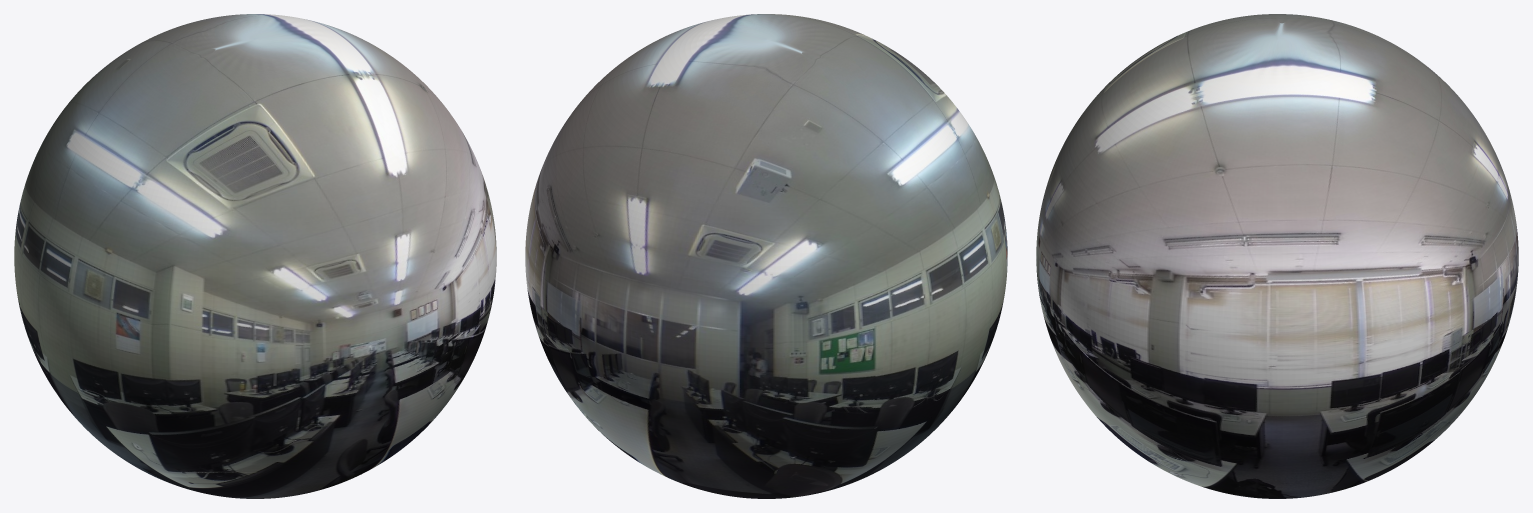
The model's file is pasokonnsitu-2.fbx.
3 renders of one model, left to right at view 1: azimuth 30°, elevation 25°; view 2: azimuth 150°, elevation 25°; view 3: azimuth 270°, elevation 25°, orthographic.
Visible parts, largest first — view 1: 球; view 2: 球; view 3: 球.
Part boxes in pixels (x1,y1,x2,y2): 球: [14, 14, 496, 498]; 球: [525, 14, 1007, 498]; 球: [1036, 14, 1518, 498].
Size of the model in its own units: 197 by 196 by 197.
Materials: 1 (1 with a texture image).
